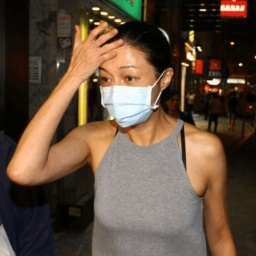correctlyWear: (97, 53, 173, 129)
